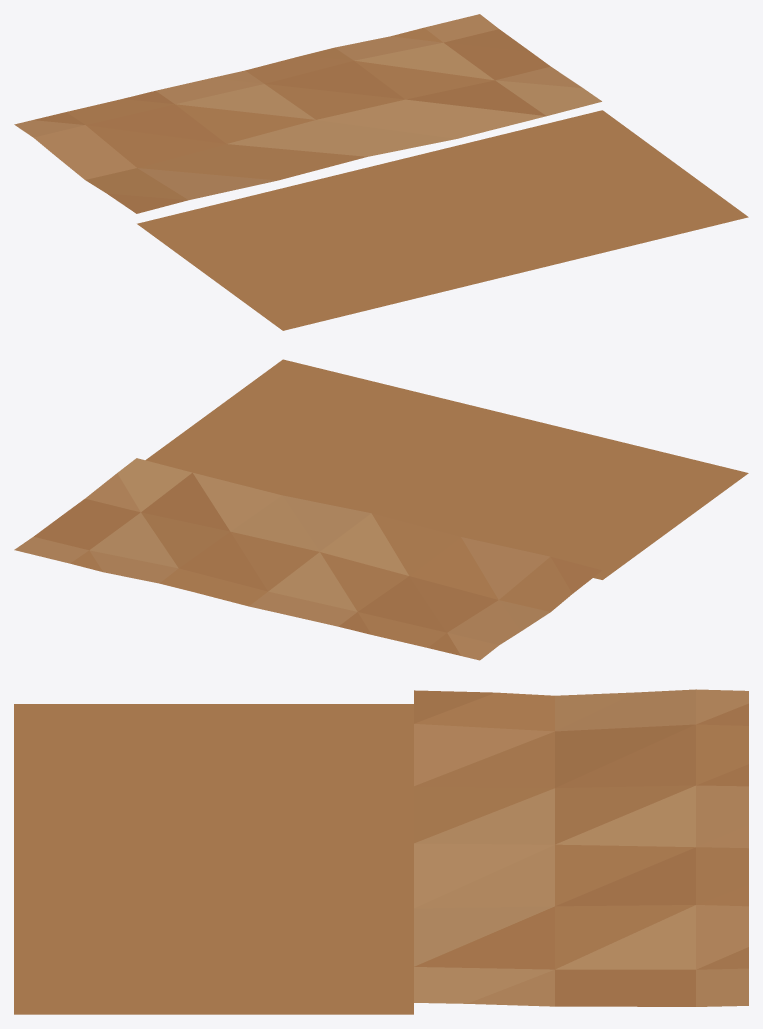
3 renders of one model, top to bottom at view 1: azimuth 30°, elevation 25°; view 2: azimuth 150°, elevation 25°; view 3: azimuth 270°, elevation 25°, orthographic. The views are drawn at different scales.
Parts seen in each view (by area): view 1: baked; view 2: baked; view 3: baked.
Boxes of the visible parts, left/top/right/bottom form: baked: left=14, top=14, right=748, bottom=330; baked: left=14, top=359, right=748, bottom=660; baked: left=14, top=689, right=748, bottom=1014.
Size of the model in its own units: 62.5 by 1.39 by 62.5.
